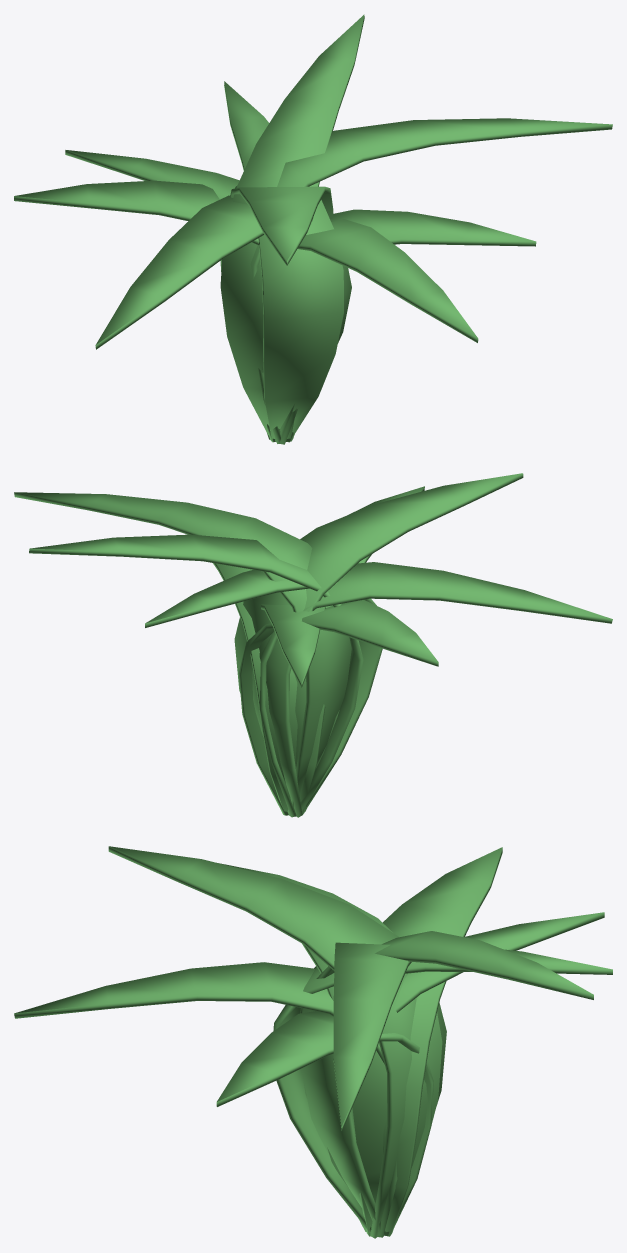
Rendered from fern.glb.
3 views of the same model, one above another, from view 1: azimuth 30°, elevation 25°; view 2: azimuth 150°, elevation 25°; view 3: azimuth 270°, elevation 25° (orthographic). The views are drawn at different scales.
Parts seen in each view (by area): view 1: Fern; view 2: Fern; view 3: Fern.
Part boxes in pixels (x1=…): Fern: x1=14, y1=14, x2=612, y2=444; Fern: x1=14, y1=473, x2=612, y2=817; Fern: x1=14, y1=846, x2=612, y2=1238.
Size of the model in its own units: 1.44 by 0.7376 by 1.19.
